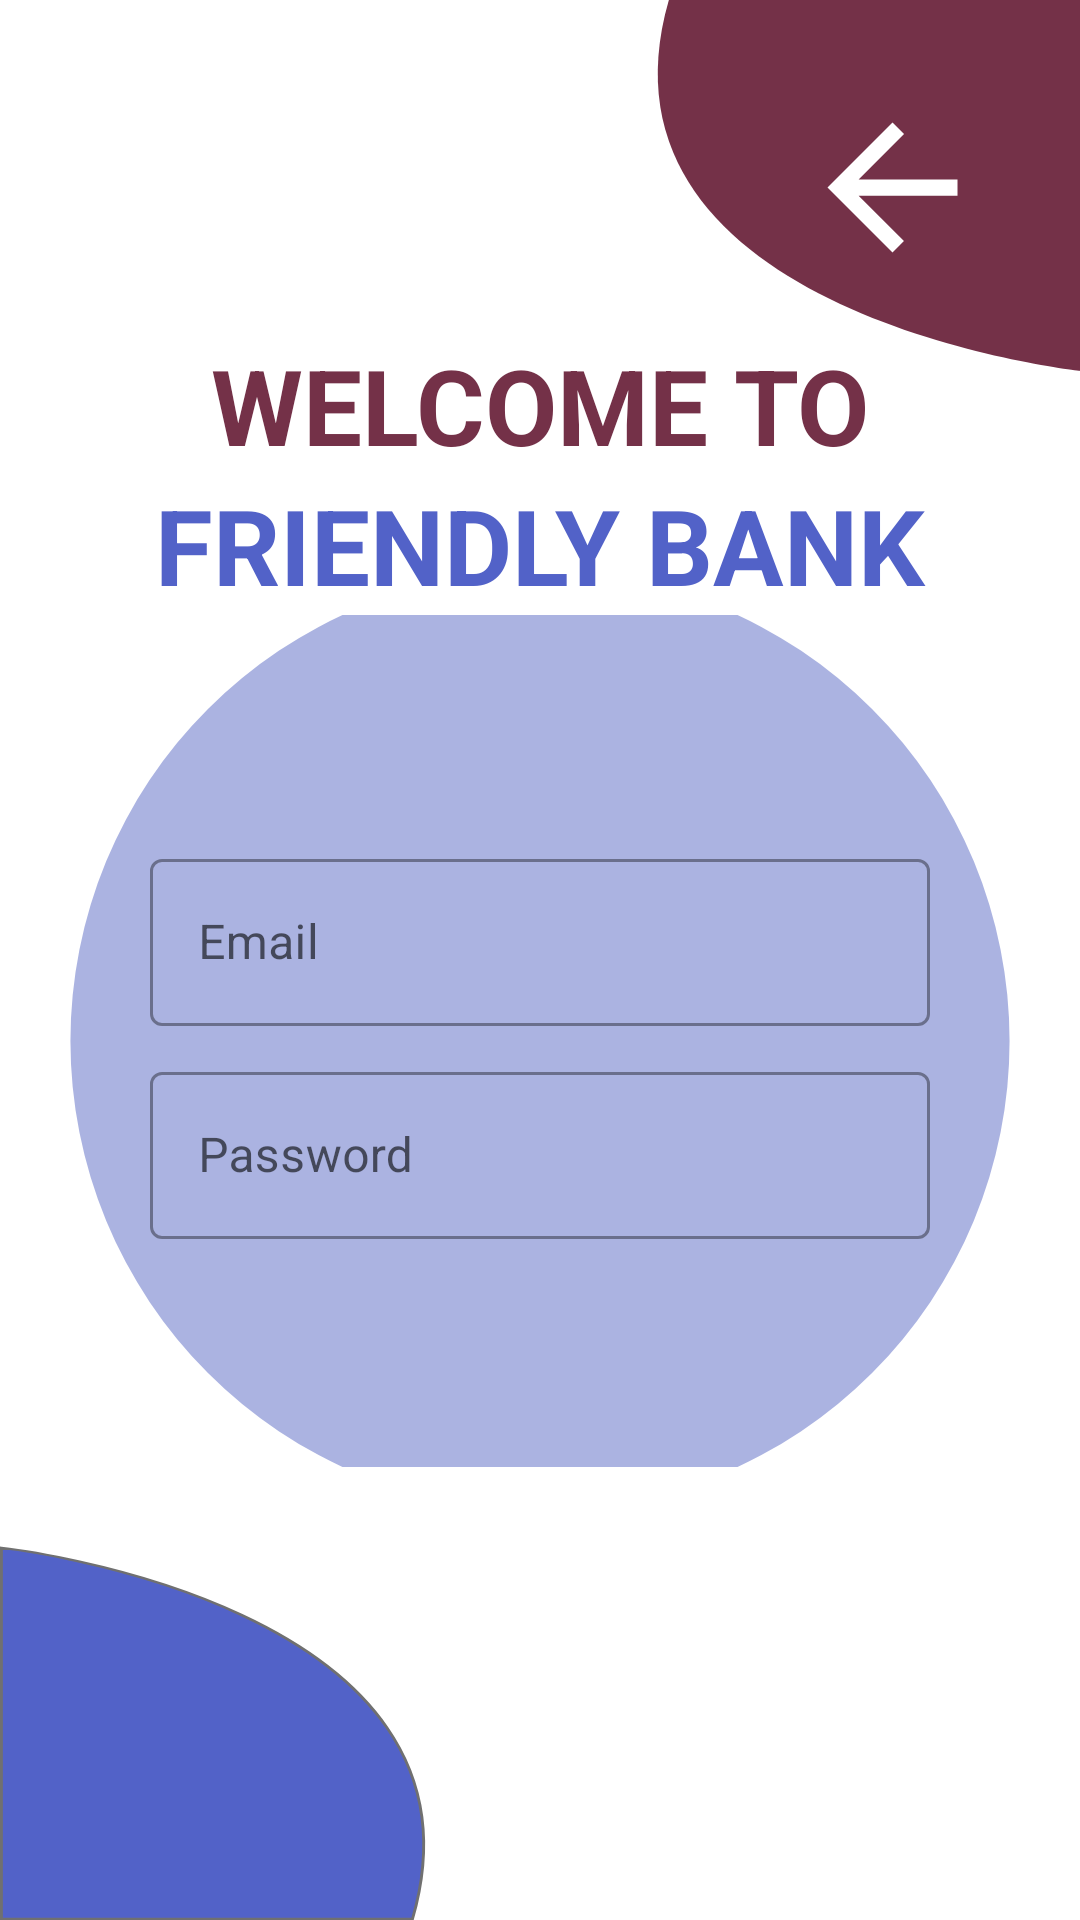

Icons on this 1080 x 1920 Android screen, each with the point to tap as (x=x, y=y):
Atras: (x=892, y=187)
